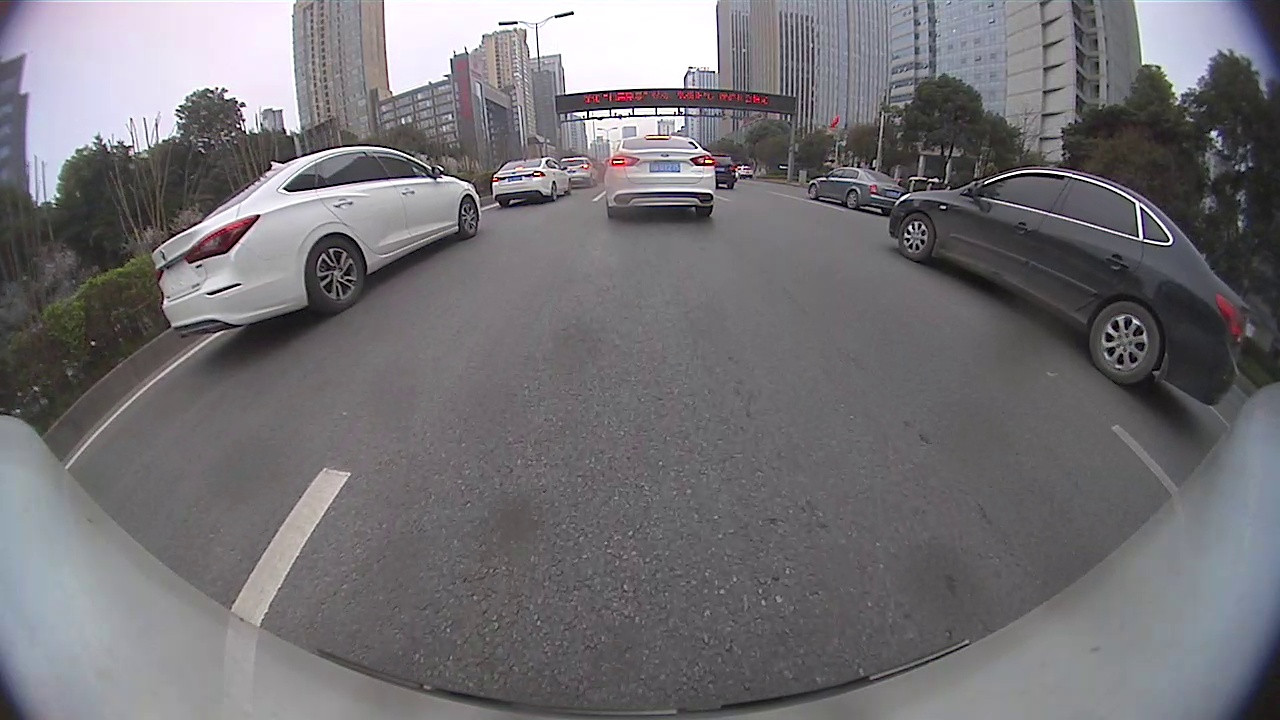car: (888, 165, 1250, 407), (153, 143, 482, 336), (603, 133, 717, 217), (810, 166, 907, 216), (490, 157, 572, 208), (558, 156, 600, 189), (711, 151, 738, 190)
front: (897, 211, 935, 263), (457, 192, 476, 238), (806, 183, 819, 204)
rear: (1094, 297, 1164, 390), (306, 236, 369, 312), (845, 188, 860, 211), (550, 181, 558, 203)
